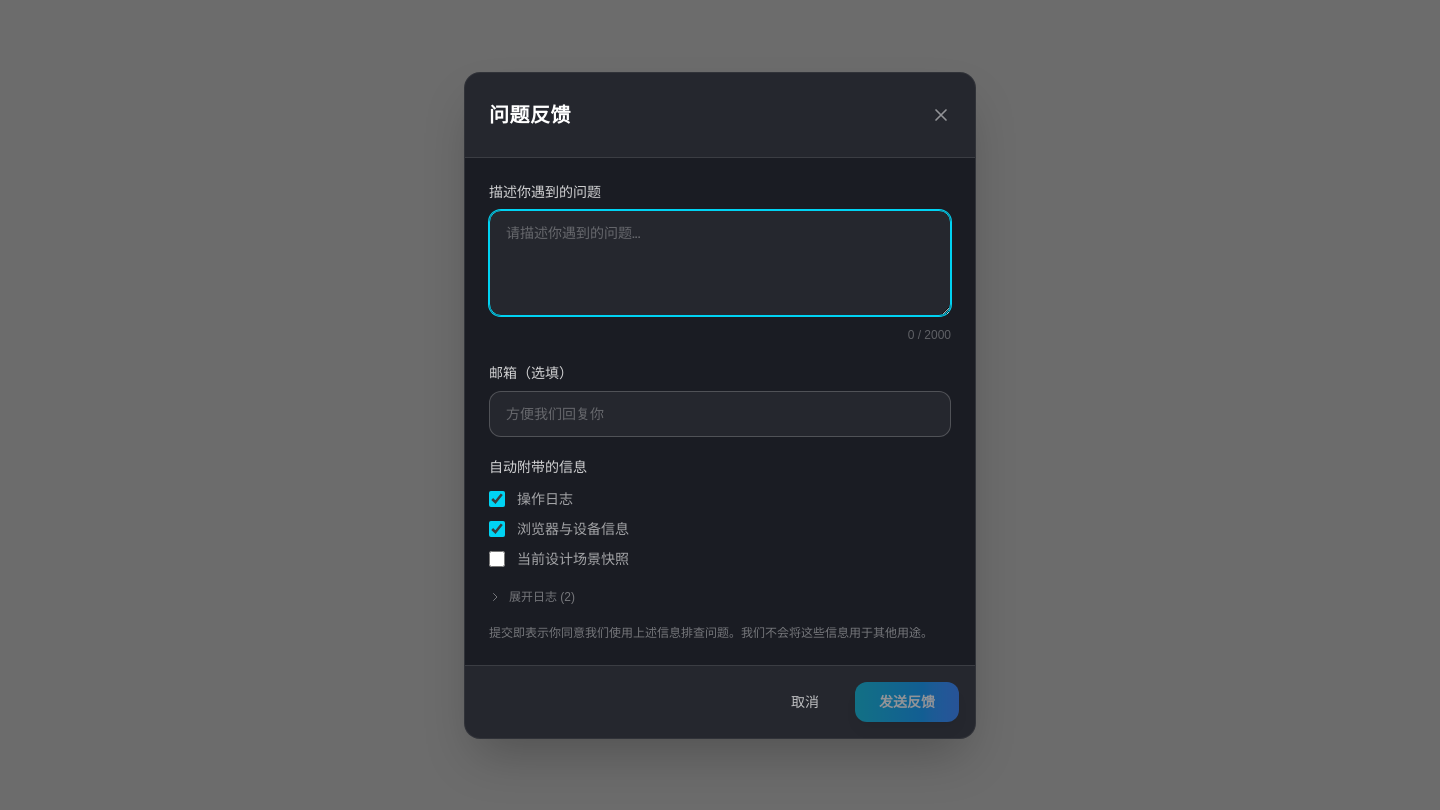
Scenario: FeedbackDialog › 提交成功后显示成功提示并自动关闭
The width and height of the screenshot is (1440, 810).
In the text box with placeholder "请描述你遇到的问题...": (720, 262) [489,210,951,316], type "测试问题"
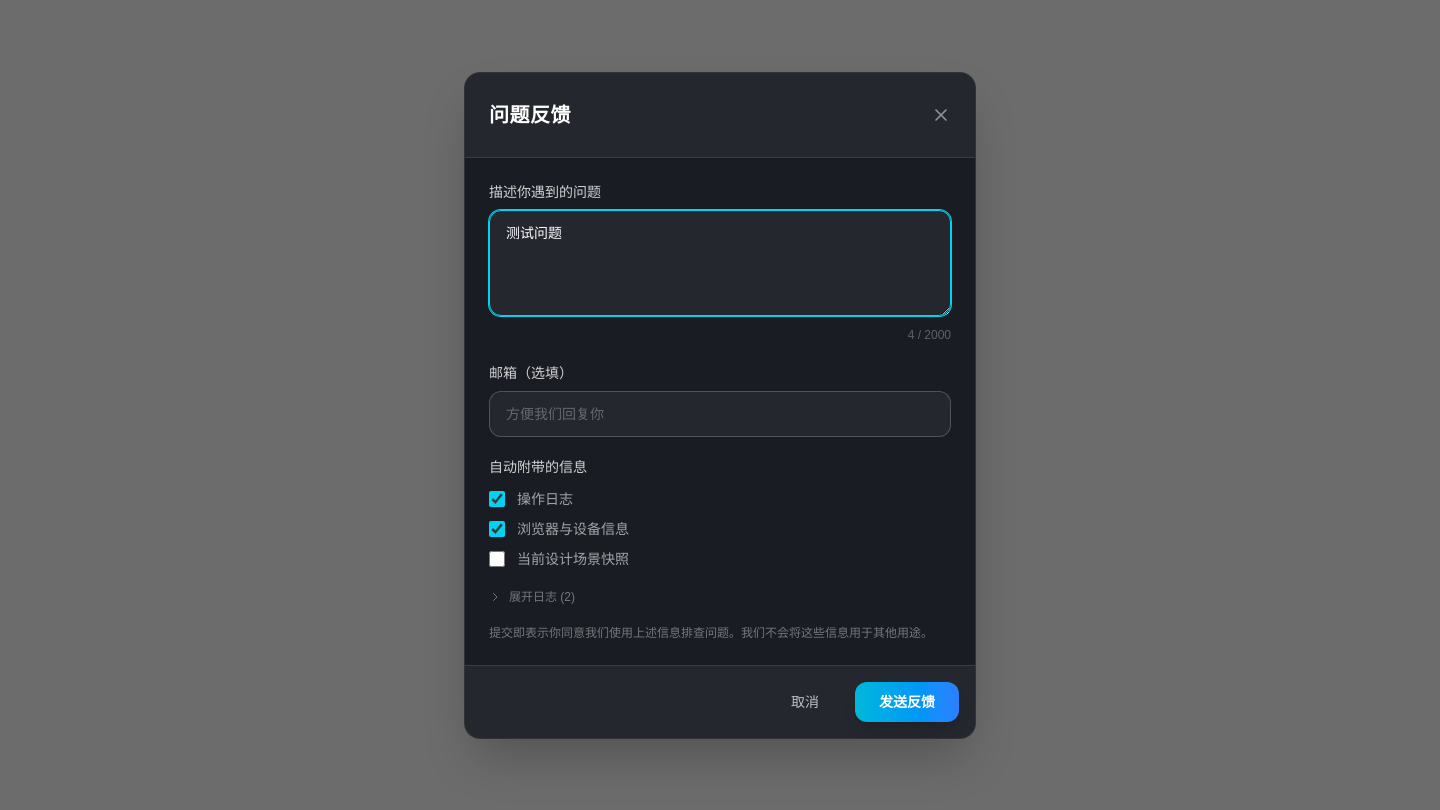
Click the button "发送反馈": (907, 702) [855,682,959,722]
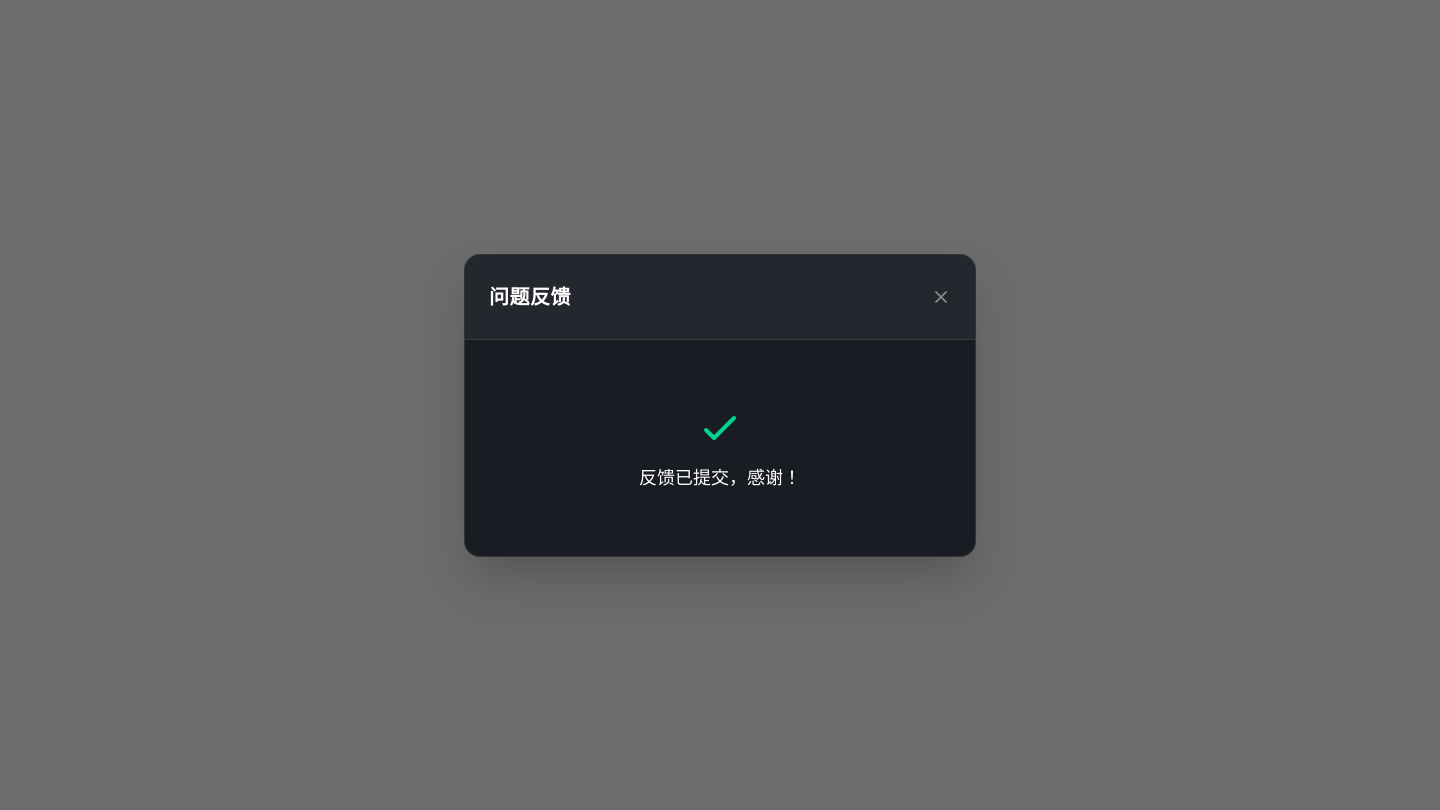
Now the text "反馈已提交，感谢！" is shown, box [639,464,801,492]
